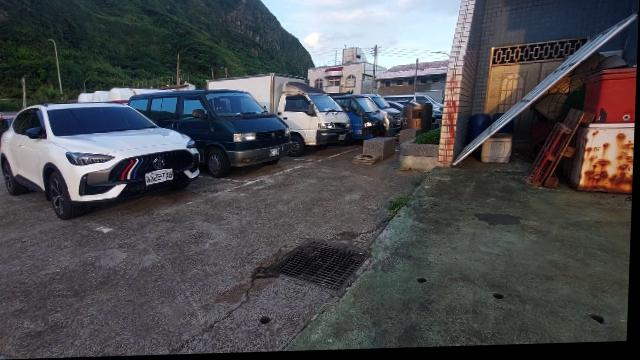pollute: (526, 55, 637, 199), (466, 114, 508, 150), (481, 135, 516, 166)
